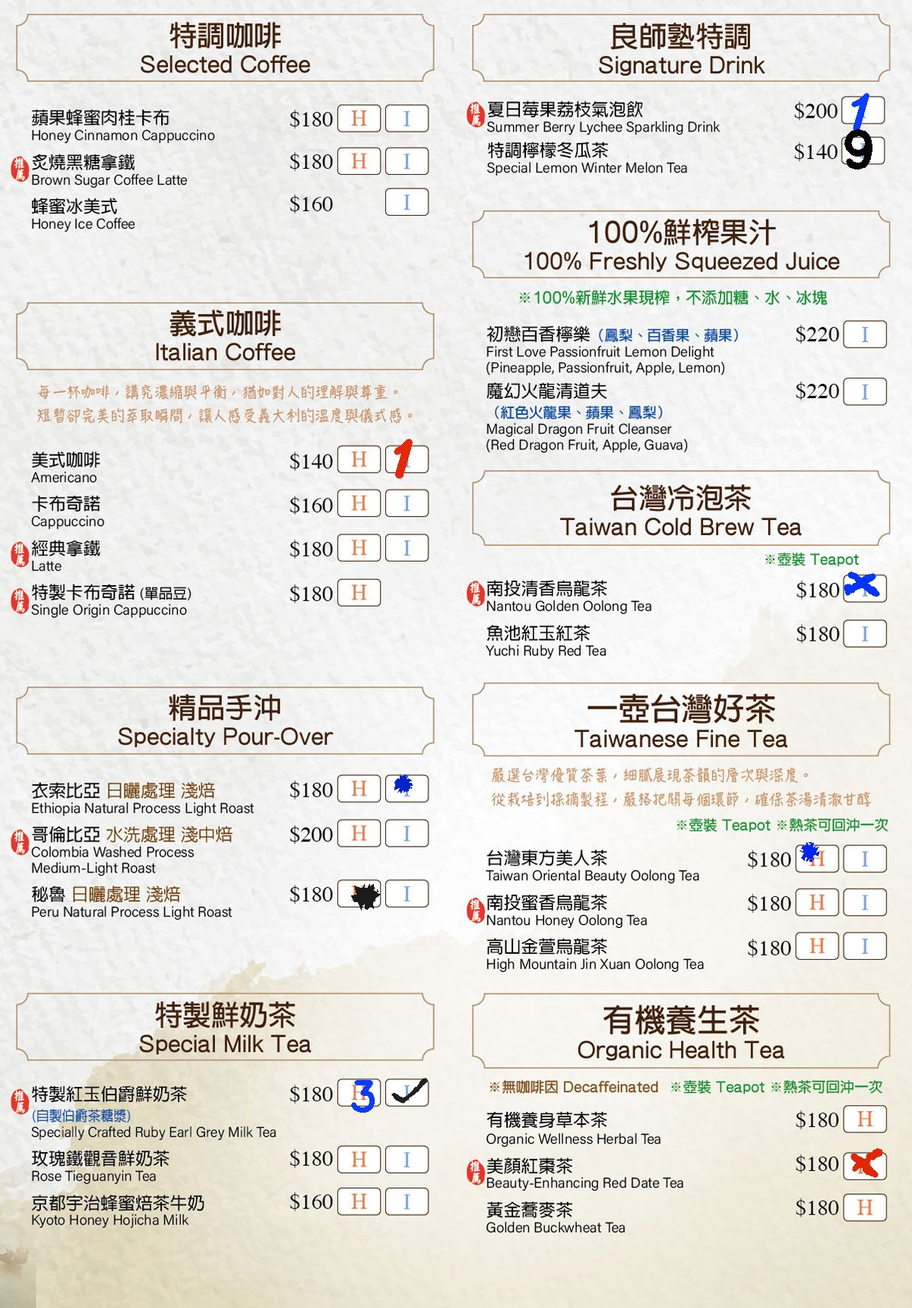marked_circle: (387, 775, 426, 799), (796, 845, 835, 869), (338, 879, 377, 903)
marked_number_1: (844, 98, 883, 122), (388, 446, 426, 470)
marked_number_3: (342, 1080, 381, 1104)
marked_number_9: (842, 138, 881, 162)
marked_tick: (391, 1081, 429, 1104)
marked_x: (846, 1153, 885, 1177), (846, 576, 885, 600)
